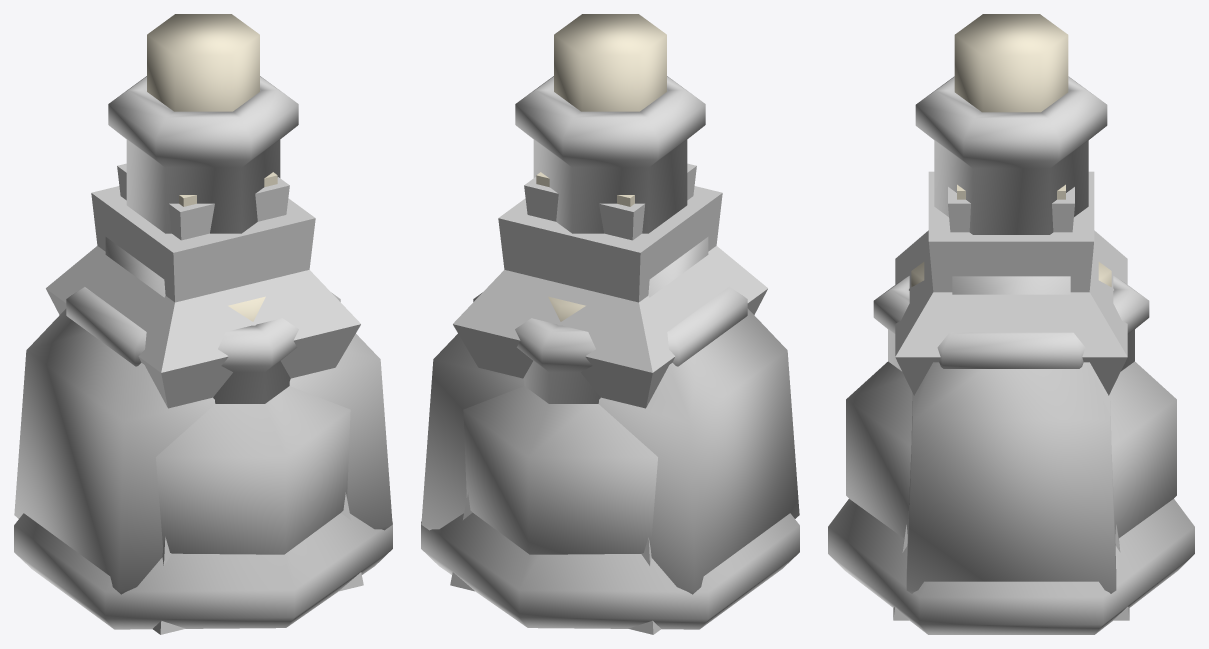
The model's file is potions_0.glb.
3 views of the same model, side by side, from view 1: azimuth 30°, elevation 25°; view 2: azimuth 150°, elevation 25°; view 3: azimuth 270°, elevation 25° (orthographic).
Parts seen in each view (by area): view 1: EmptyElixir, EmptyBomb, EmptyFlask, EmptyVial, HealthTube, EmptyPotion, EmptyJar, ManaTube, EmptyTube; view 2: EmptyElixir, EmptyBomb, EmptyFlask, EmptyVial, HealthTube, EmptyPotion, EmptyJar, ManaTube, EmptyTube; view 3: EmptyElixir, ManaTube, EmptyFlask, EmptyBomb, EmptyVial, EmptyPotion, EmptyJar, EmptyTube, HealthTube.
Boxes of the visible parts, box(x1,y1,x2,y2) form: EmptyElixir: box(14, 237, 392, 594); EmptyBomb: box(156, 386, 350, 554); EmptyFlask: box(14, 513, 392, 629); EmptyVial: box(46, 163, 360, 408); HealthTube: box(108, 14, 273, 233); EmptyPotion: box(91, 172, 363, 634); EmptyJar: box(66, 287, 340, 403); ManaTube: box(132, 14, 298, 232); EmptyTube: box(129, 14, 278, 181); EmptyElixir: box(421, 237, 799, 594); EmptyBomb: box(463, 386, 657, 554); EmptyFlask: box(421, 512, 799, 629); EmptyVial: box(453, 163, 767, 408); HealthTube: box(541, 14, 705, 233); EmptyPotion: box(450, 172, 722, 634); EmptyJar: box(473, 287, 747, 403); ManaTube: box(515, 14, 685, 232); EmptyTube: box(536, 14, 682, 183); EmptyElixir: box(906, 276, 1116, 593); ManaTube: box(915, 14, 1107, 234); EmptyFlask: box(828, 499, 1194, 634); EmptyBomb: box(846, 361, 1176, 537); EmptyVial: box(895, 187, 1127, 395); EmptyPotion: box(893, 171, 1129, 620); EmptyJar: box(873, 262, 1149, 371); EmptyTube: box(936, 14, 1083, 137); HealthTube: box(921, 14, 1101, 118).
Bounding box in the file's own units: 0.1273 × 0.2255 × 0.1397.
